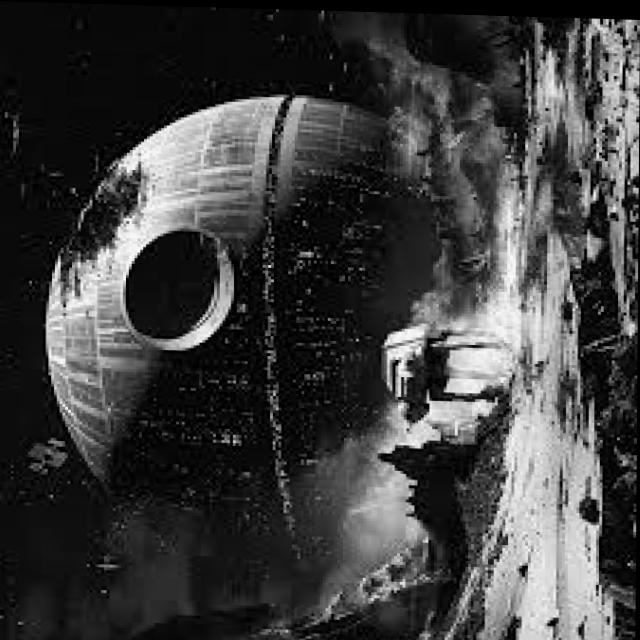deathStar: (39, 82, 456, 583)
